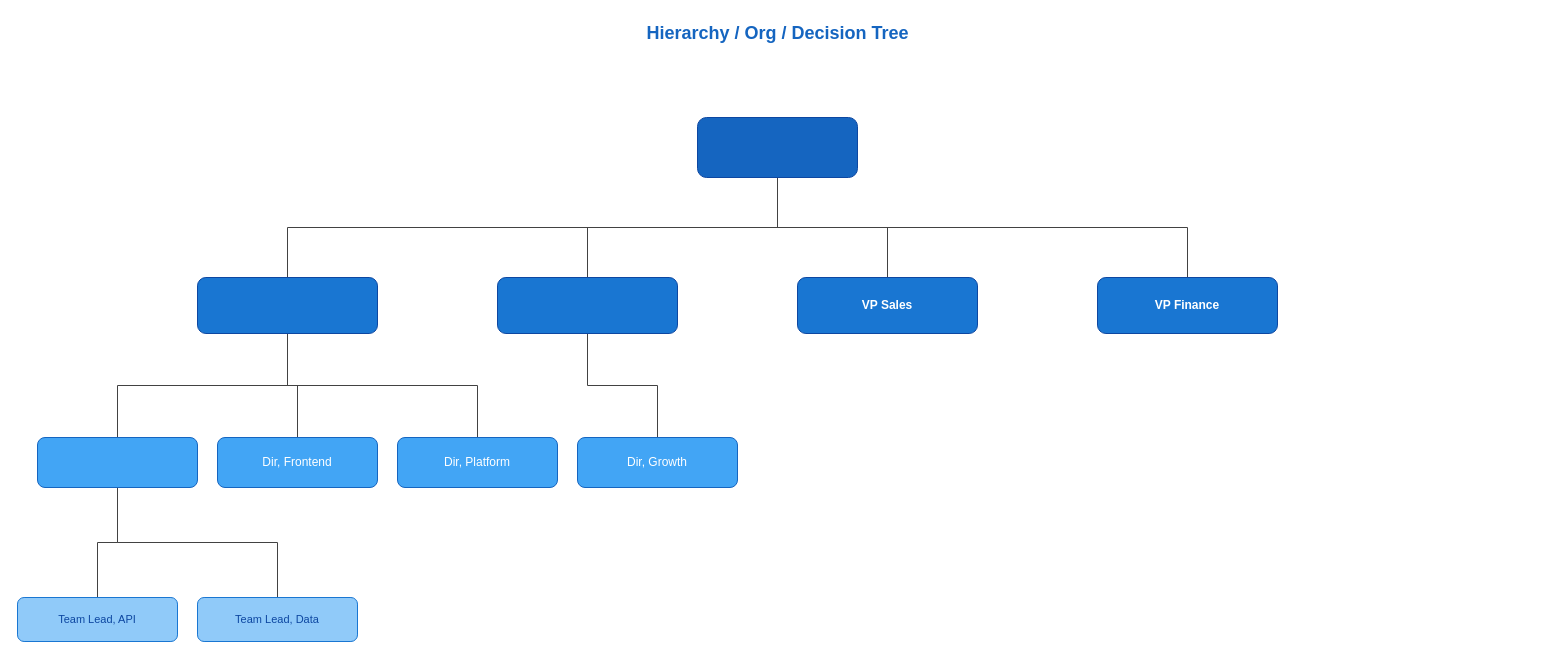
This 1555x659 diagram has some shape labels left out. Each missing label, with the centre of its shape:
CEO: [777,147]
Dir, Backend: [117,462]
VP Engineering: [287,305]
VP Product: [587,305]
